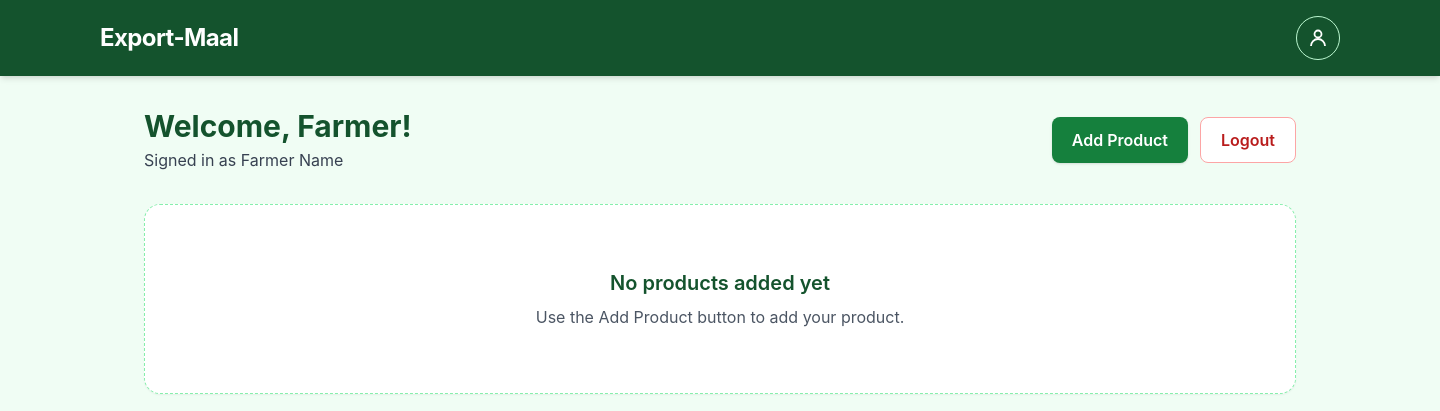
Test case: keeps a farmer profile when its saved Firebase UID differs but email matches
Check: the heading "Welcome, Farmer!" is shown, box x1=144 y1=108 x2=412 y2=144
Step 1. Click the button named "Account options" → (1318, 38), box x1=1296 y1=16 x2=1340 y2=60
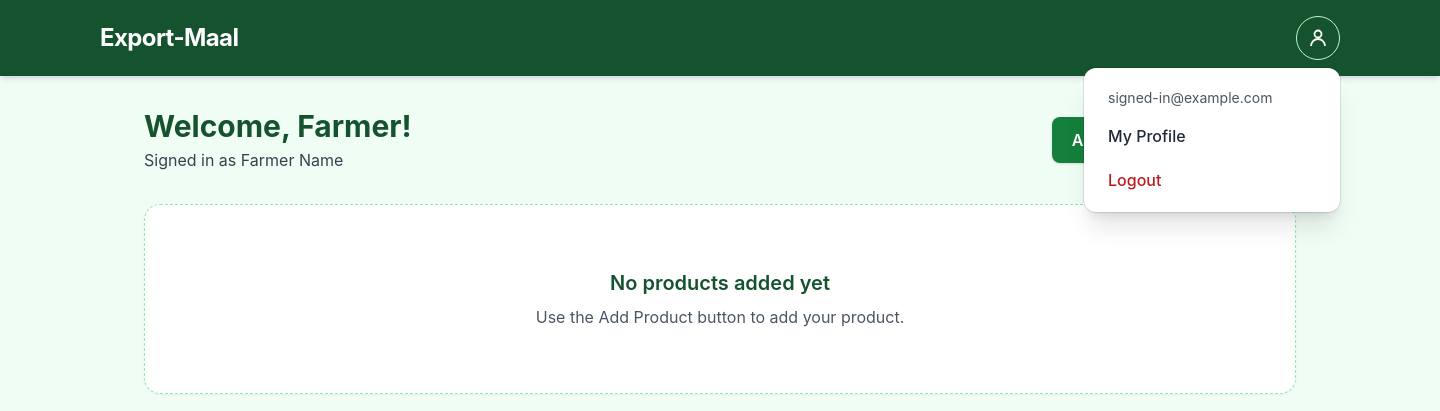
Check: the link "My Profile" is shown, box x1=1108 y1=126 x2=1186 y2=146
